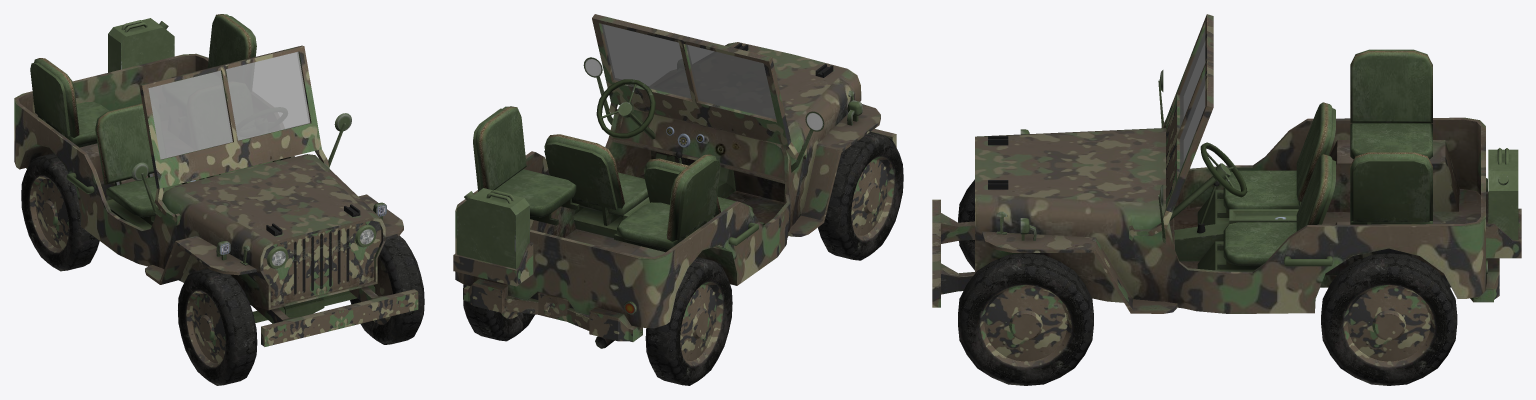
File: Jeep.fbx
The picture shows the model from 3 angles, left to right: view 1: azimuth 30°, elevation 25°; view 2: azimuth 150°, elevation 25°; view 3: azimuth 270°, elevation 25°; orthographic projection. The views are drawn at different scales.
Parts seen in each view (by area): view 1: Body, Glass, Front_Right_Wheel, Back_Right_Wheel, Front_Left_Wheel; view 2: Body, Glass, Front_Right_Wheel, Back_Right_Wheel, Back_Left_Wheel, Steering; view 3: Body, Back_Left_Wheel, Front_Left_Wheel, Glass, Steering, Front_Right_Wheel.
Boxes of the visible parts, x1,y1,x2,y2 form: Body: (14,14,418,346); Glass: (148,52,310,159); Front_Right_Wheel: (178,268,257,385); Back_Right_Wheel: (21,153,99,271); Front_Left_Wheel: (350,235,424,344); Body: (453,14,896,348); Glass: (601,23,775,119); Front_Right_Wheel: (818,132,903,260); Back_Right_Wheel: (645,257,732,385); Back_Left_Wheel: (463,284,535,341); Steering: (596,79,655,139); Body: (932,14,1521,313); Back_Left_Wheel: (1321,253,1457,385); Front_Left_Wheel: (958,253,1093,385); Glass: (1179,29,1205,171); Steering: (1169,142,1247,221); Front_Right_Wheel: (958,179,974,270).
Size of the model in its own units: 186 by 191 by 372.
